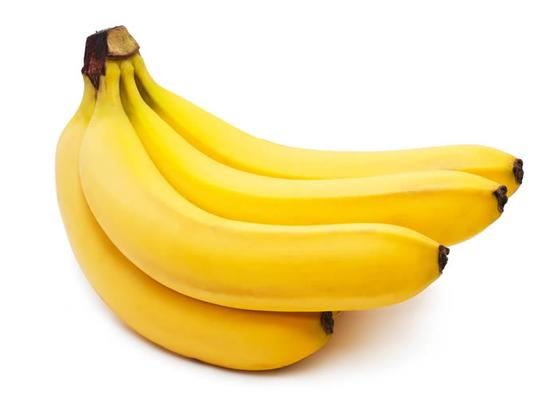banana: (69, 8, 482, 326)
